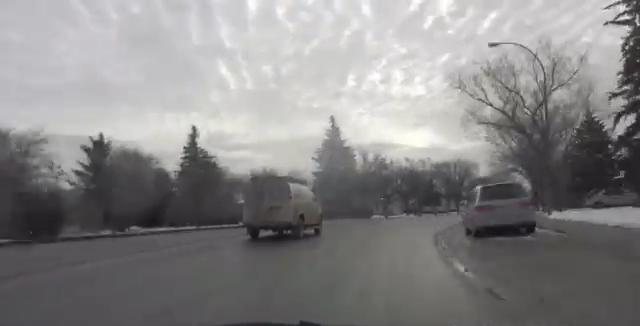car: (240, 175, 324, 239), (463, 180, 536, 238)
